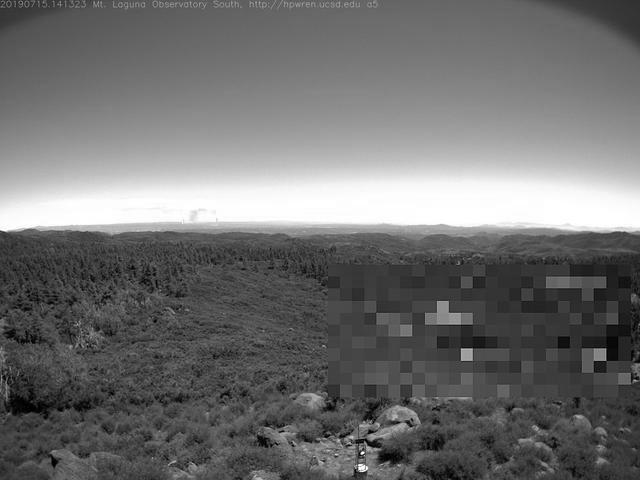smoke: (183, 201, 218, 226)
